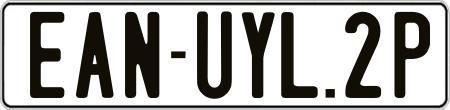2: (344, 12, 380, 100)
A: (74, 11, 114, 101)
E: (28, 12, 64, 100)
L: (281, 11, 318, 99)
N: (125, 12, 164, 103)
P: (395, 12, 436, 103)
U: (194, 9, 234, 97)
Y: (242, 10, 280, 97)
